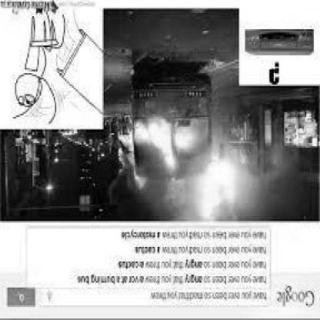Fire: (123, 105, 253, 218)
